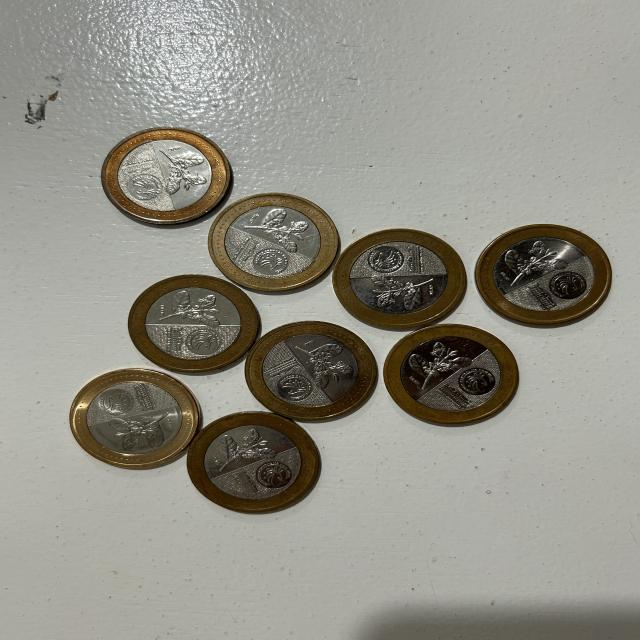20_New_Back: (242, 208, 312, 252), (296, 342, 351, 389), (409, 341, 469, 384), (163, 290, 224, 330), (506, 243, 564, 285), (366, 273, 433, 308), (158, 147, 207, 193), (217, 428, 274, 466), (115, 412, 175, 448)
